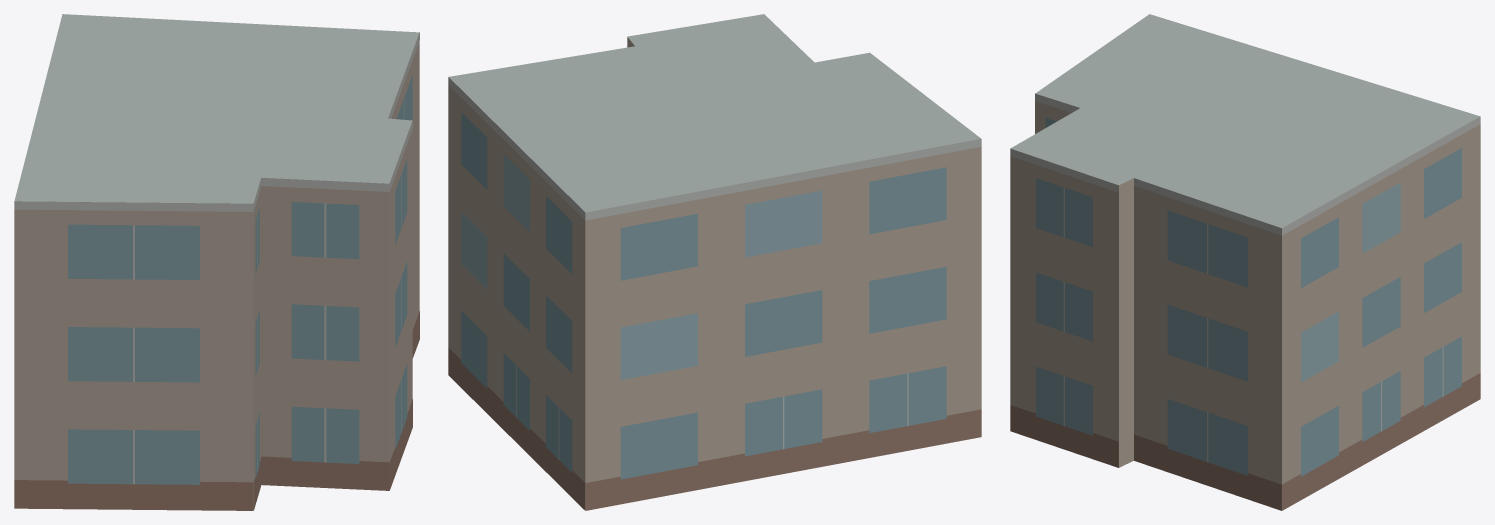
Rendered from survey-upis-32647478.glb.
3 views of the same model, side by side, from view 1: azimuth 30°, elevation 25°; view 2: azimuth 150°, elevation 25°; view 3: azimuth 270°, elevation 25° (orthographic). The views are drawn at different scales.
Visible parts, largest first — view 1: survey-upis-32647478.tmp; view 2: survey-upis-32647478.tmp; view 3: survey-upis-32647478.tmp.
Part boxes in pixels (x1,y1,x2,y2): survey-upis-32647478.tmp: (14,14,419,510); survey-upis-32647478.tmp: (448,14,981,510); survey-upis-32647478.tmp: (1010,14,1480,510).
Bounding box in the file's own units: 14.88 × 9.15 × 13.81.
